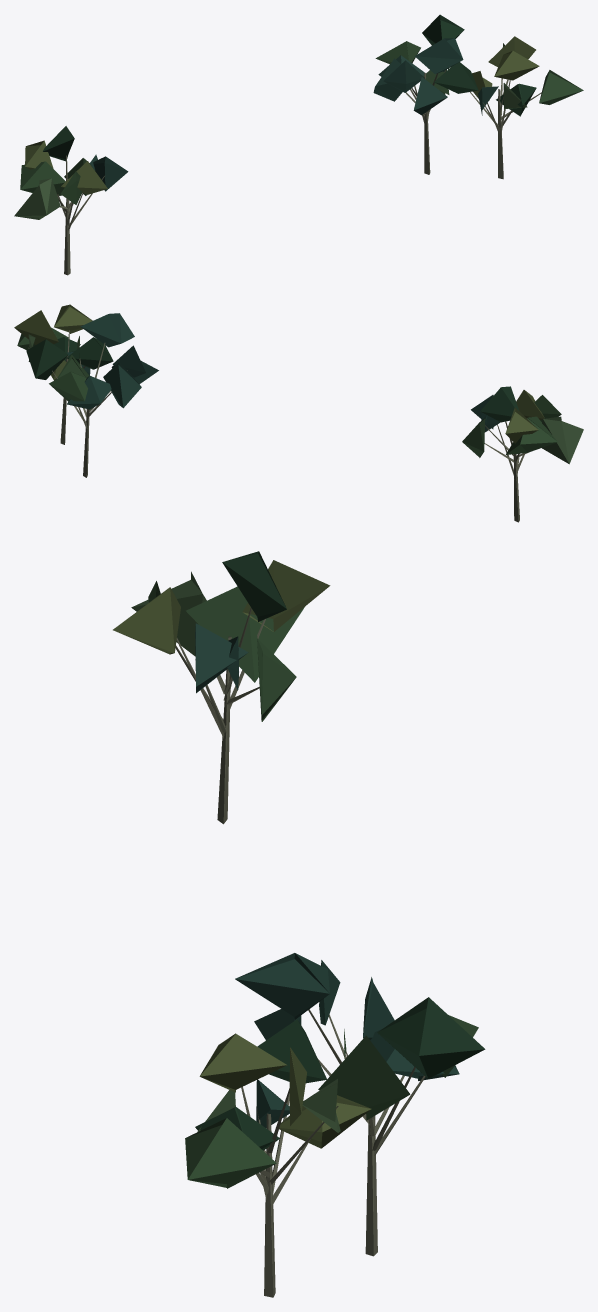
The model's file is forest_25_27.dae.
The picture shows the model from 3 angles, top to bottom: view 1: azimuth 30°, elevation 25°; view 2: azimuth 150°, elevation 25°; view 3: azimuth 270°, elevation 25°; orthographic projection. The views are drawn at different scales.
Parts seen in each view (by area): view 1: Node; view 2: Node; view 3: Node.
Part boxes in pixels (<box>): Node: <box>14,14,583,275</box>; Node: <box>14,304,583,522</box>; Node: <box>113,551,485,1297</box>.
Size of the model in its own units: 9.93 by 2.89 by 2.79.
